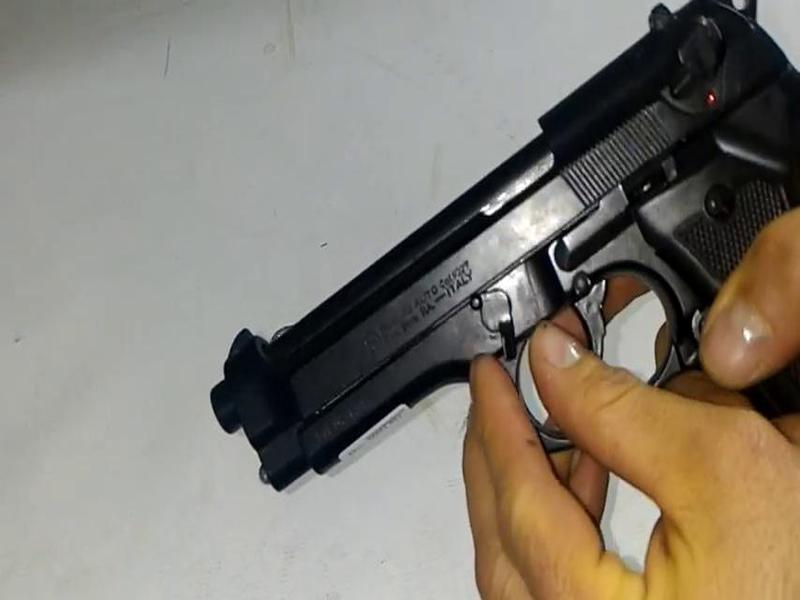Pistola: (181, 1, 799, 506)
